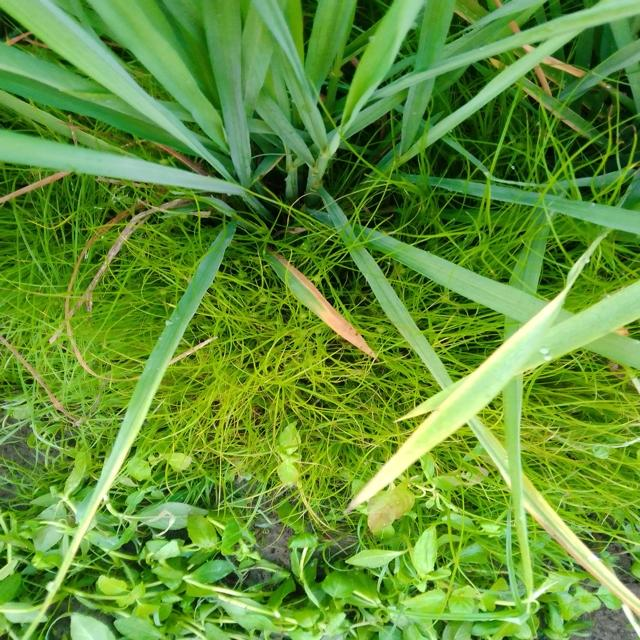Brown spot: (265, 246, 388, 390)
